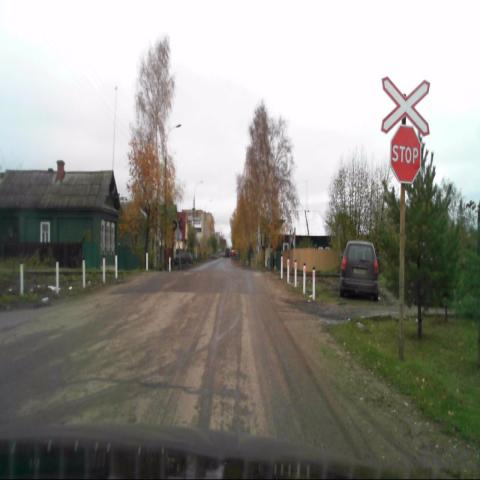2_5: (390, 125, 421, 184)
